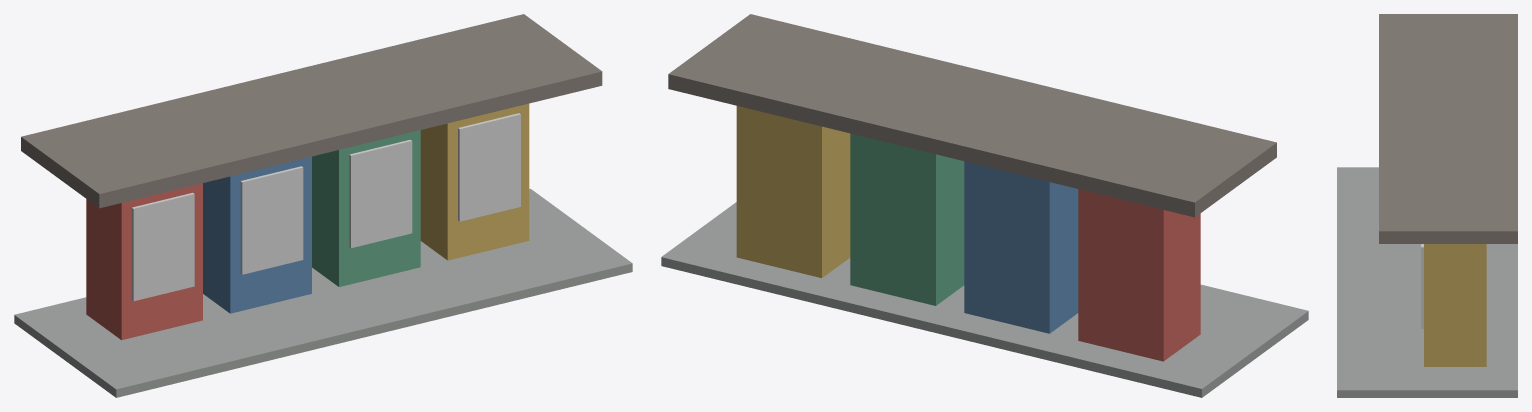
The picture shows the model from 3 angles, left to right: view 1: azimuth 30°, elevation 25°; view 2: azimuth 150°, elevation 25°; view 3: azimuth 270°, elevation 25°; orthographic projection. The views are drawn at different scales.
Visible parts, largest first — view 1: Visual; view 2: Visual; view 3: Visual.
Part boxes in pixels (bbox=[...]): Visual: bbox=[14, 14, 632, 397]; Visual: bbox=[661, 14, 1308, 397]; Visual: bbox=[1337, 14, 1517, 397].
Bounding box in the file's own units: 7.6 × 2.6 × 2.6.
